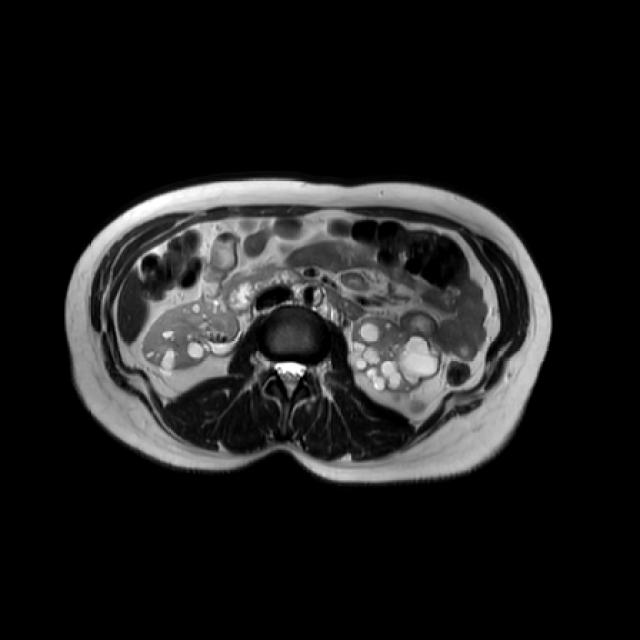sag: (141, 298, 240, 376)
sol: (347, 314, 444, 395)
